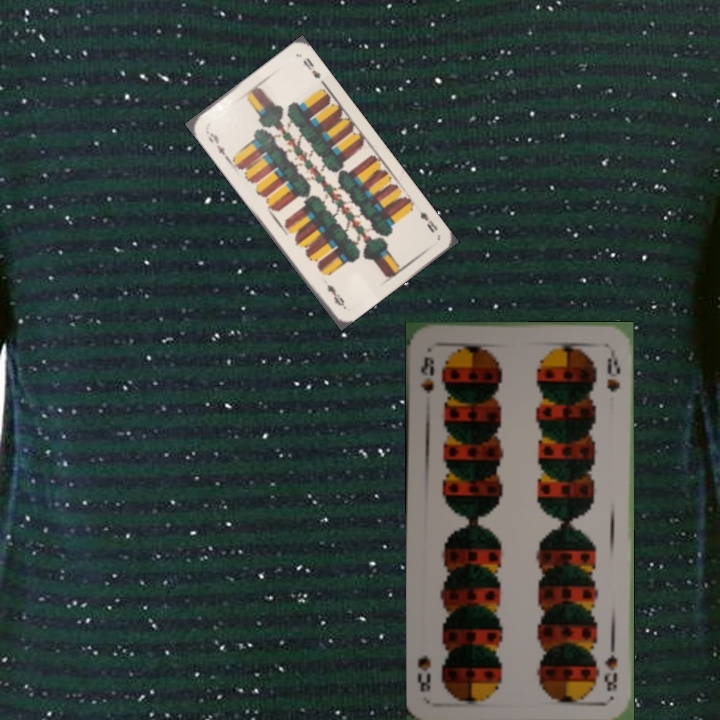E9: (202, 126, 231, 161), (416, 207, 440, 236)
S8: (600, 636, 620, 693), (416, 353, 436, 396)
